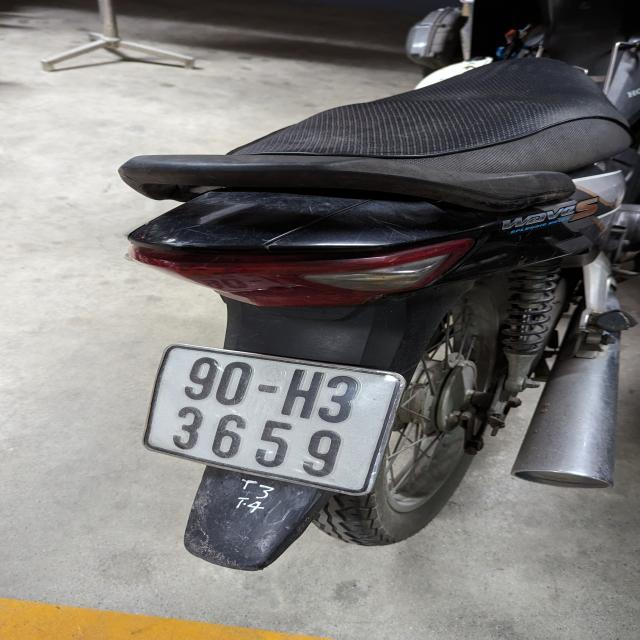license: (142, 342, 406, 497)
